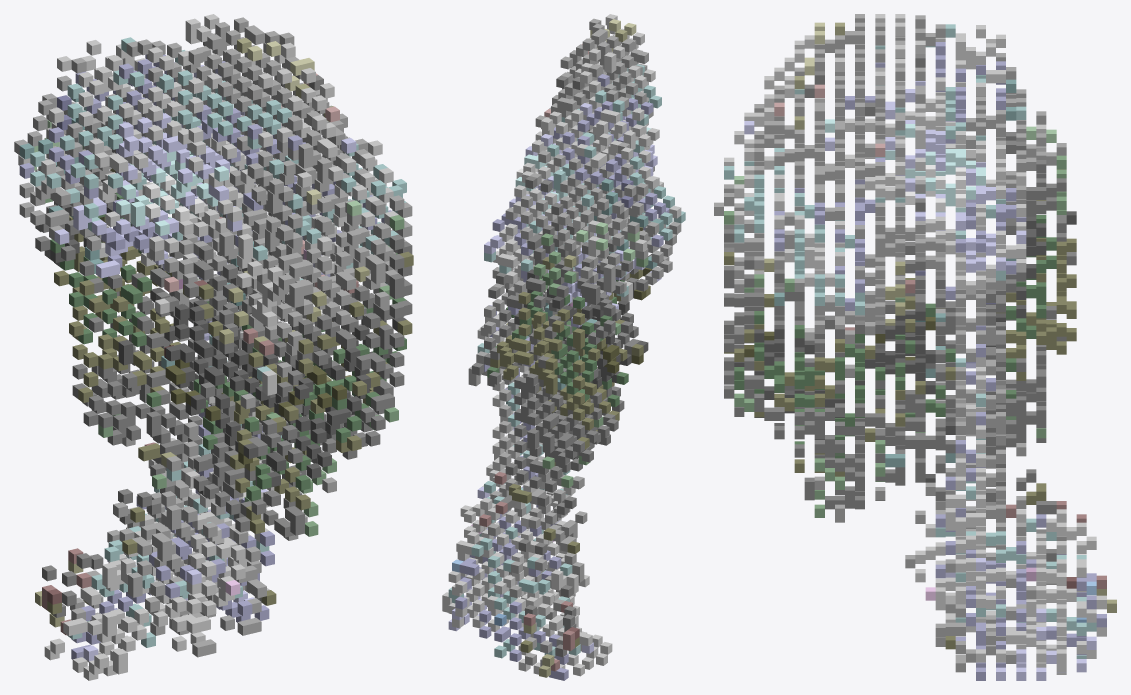
Rendered from object_006_voxel.obj.
The picture shows the model from 3 angles, left to right: view 1: azimuth 30°, elevation 25°; view 2: azimuth 150°, elevation 25°; view 3: azimuth 270°, elevation 25°; orthographic projection. The views are drawn at different scales.
Bounding box in the file's own units: 0.28 × 0.71 × 0.4.
